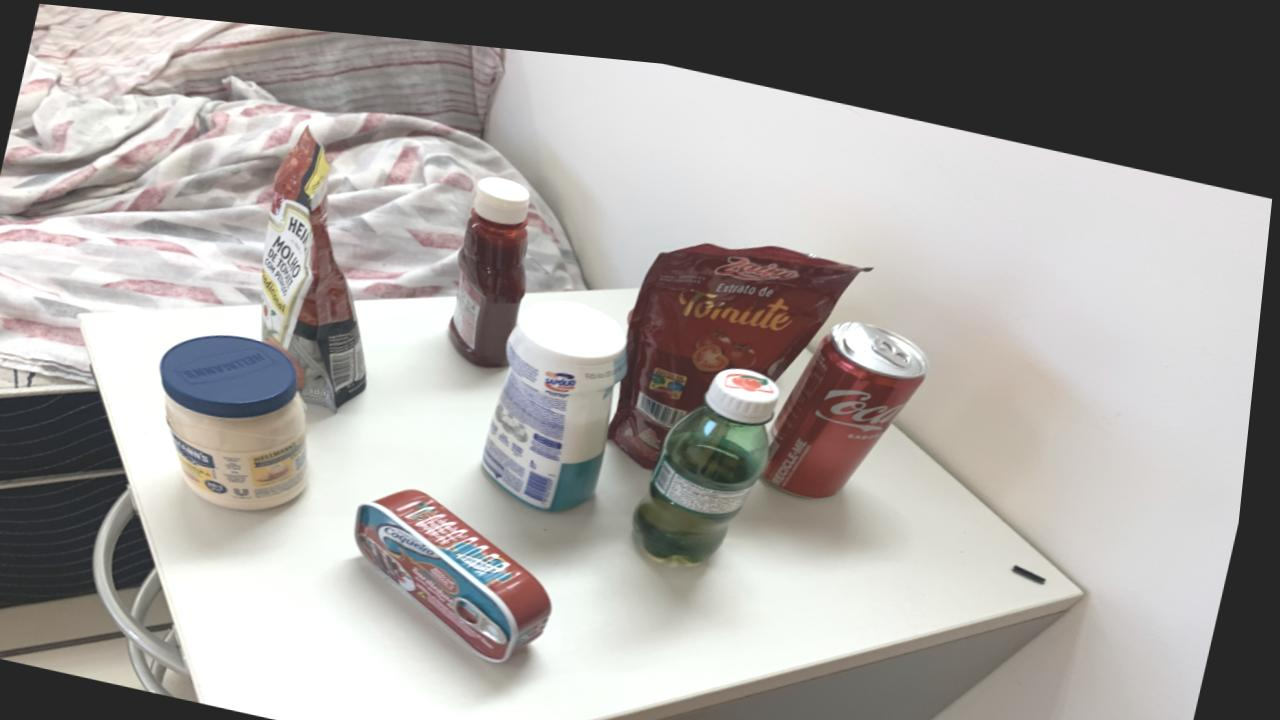Cleaner-Cleanup_Items: (490, 288, 634, 500)
Coke-Drinks: (772, 304, 936, 481)
Guarana-Drinks: (643, 353, 787, 550)
Ketchup-Pantry_Items: (454, 167, 534, 357)
Mayonnaise-Pantry_Items: (167, 330, 318, 505)
Tomato_Sauce-Pantry_Items: (616, 229, 868, 455), (266, 122, 374, 403)
Tuna_Can-Pantry_Items: (365, 480, 563, 651)
